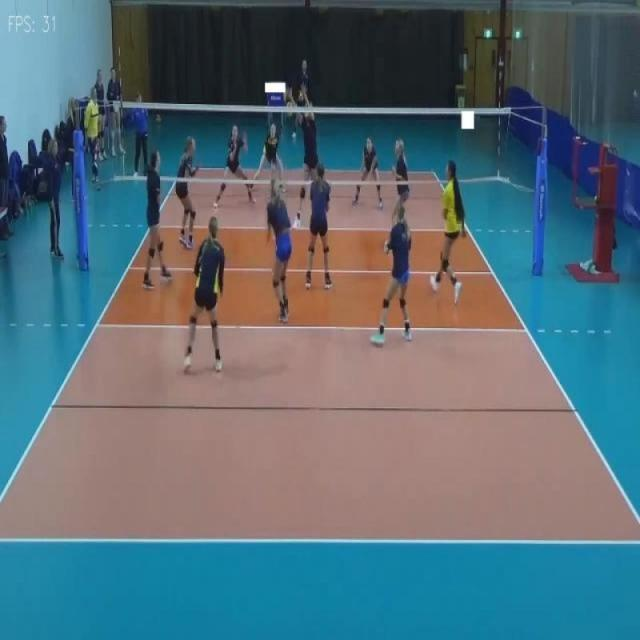volleyball: (285, 101, 294, 117), (155, 114, 162, 124), (298, 92, 304, 101)
